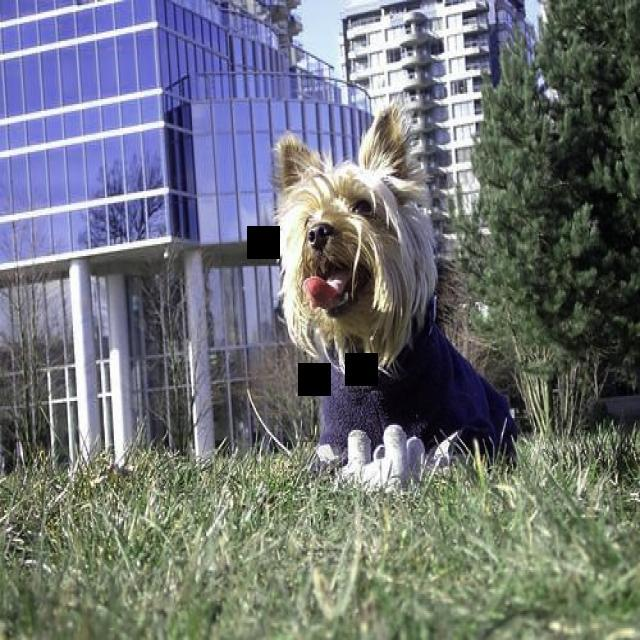adult_dog: (270, 105, 519, 490)
